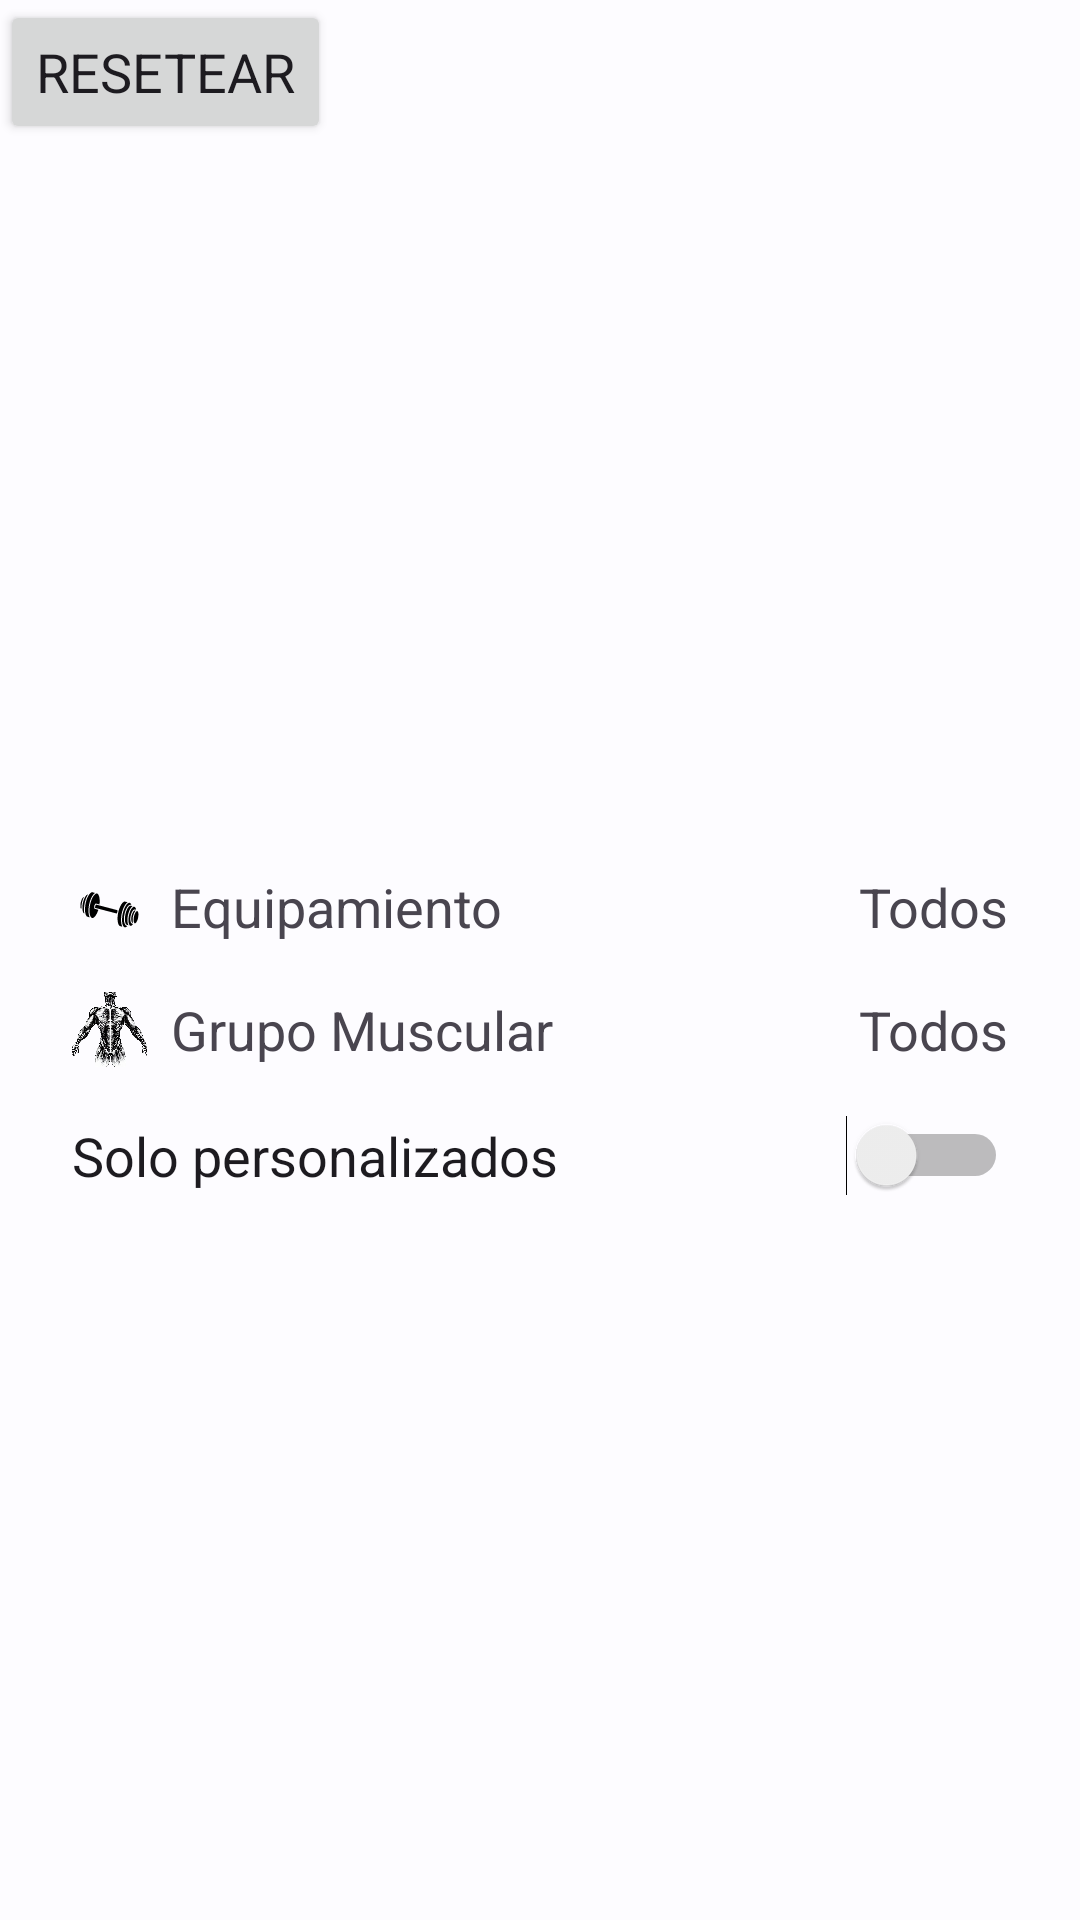

Icons on this 1080x1920 Android screen, each with its box as region(x1, y1, x2, y2):
muscular group: region(72, 992, 147, 1067)
training: region(80, 892, 139, 928)
